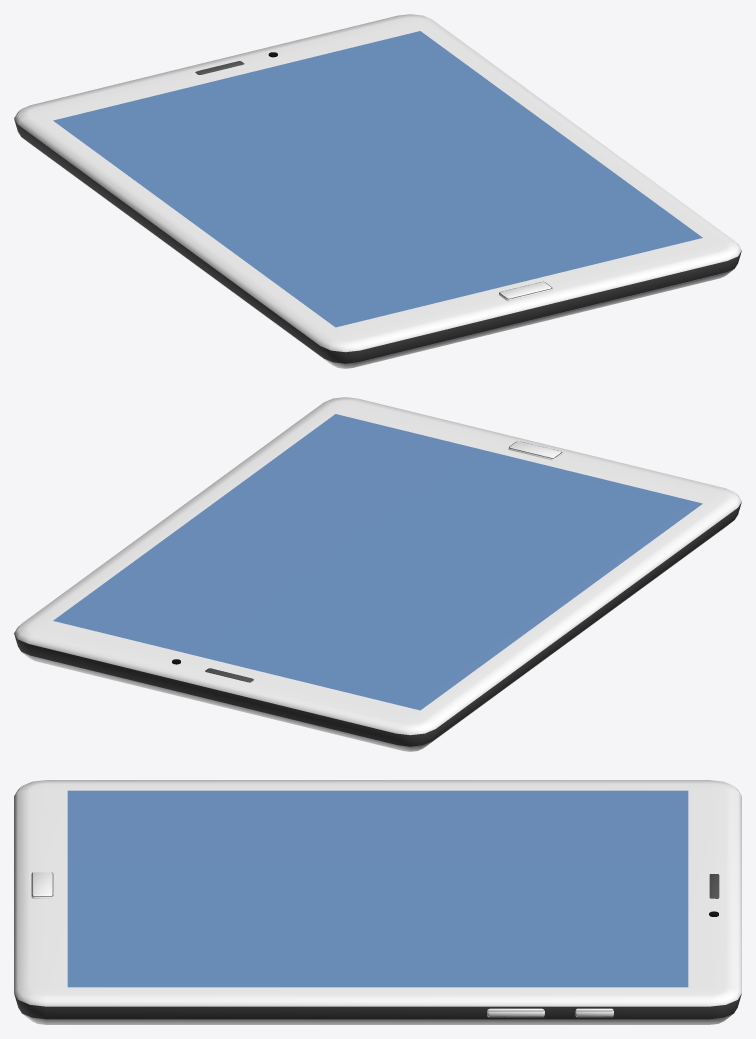
Rendered from Tablet.glb.
The picture shows the model from 3 angles, top to bottom: view 1: azimuth 30°, elevation 25°; view 2: azimuth 150°, elevation 25°; view 3: azimuth 270°, elevation 25°; orthographic projection. The views are drawn at different scales.
Parts seen in each view (by area): view 1: ChamferBox001; view 2: ChamferBox001; view 3: ChamferBox001, ChamferBox002, ChamferBox005.
Part boxes in pixels (x1,y1,x2,y2): ChamferBox001: (14, 14, 741, 368); ChamferBox001: (14, 397, 741, 751); ChamferBox001: (14, 780, 741, 1024); ChamferBox002: (31, 872, 53, 898); ChamferBox005: (487, 1008, 544, 1017).
Bounding box in the file's own units: 44.12 × 3.65 × 60.34.
